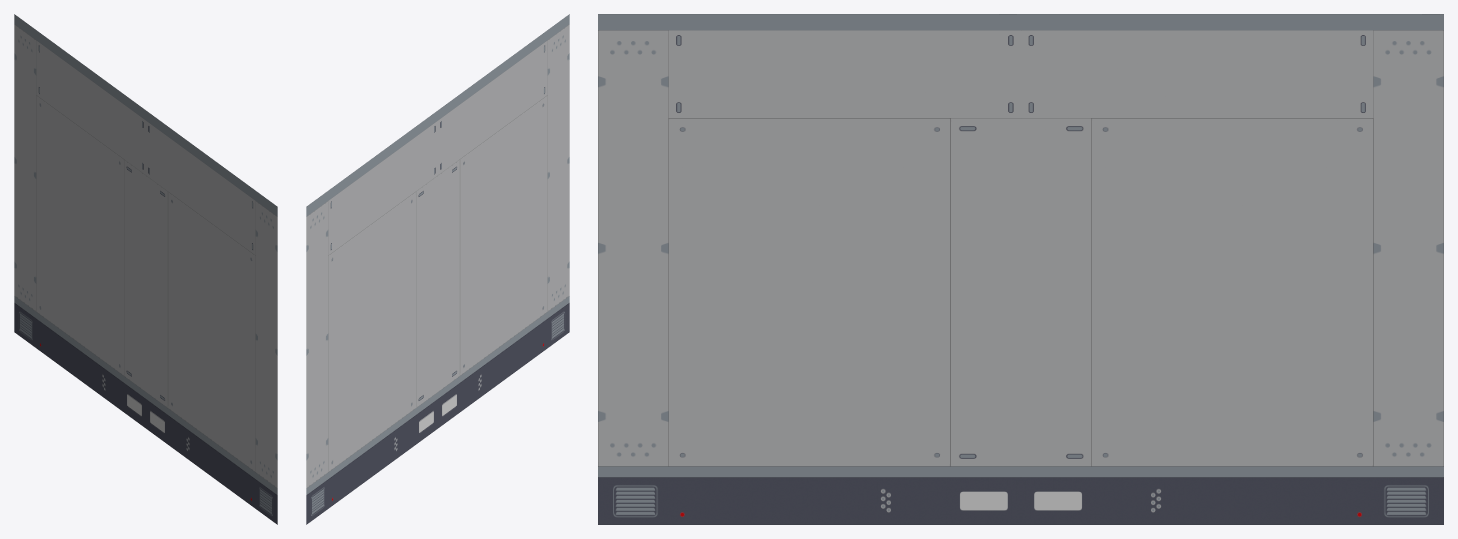
File: Interior_Wall_Simple_01.FBX
3 views of the same model, side by side, from view 1: azimuth 30°, elevation 25°; view 2: azimuth 150°, elevation 25°; view 3: azimuth 270°, elevation 25° (orthographic). The views are drawn at different scales.
Parts seen in each view (by area): view 1: Interior_Wall_Simple_01; view 2: Interior_Wall_Simple_01; view 3: Interior_Wall_Simple_01.
Boxes of the visible parts, bbox=[...] form: Interior_Wall_Simple_01: bbox=[14, 14, 277, 524]; Interior_Wall_Simple_01: bbox=[306, 14, 569, 524]; Interior_Wall_Simple_01: bbox=[598, 14, 1443, 524].
Size of the model in its own units: 2.23e-07 by 4 by 6.
